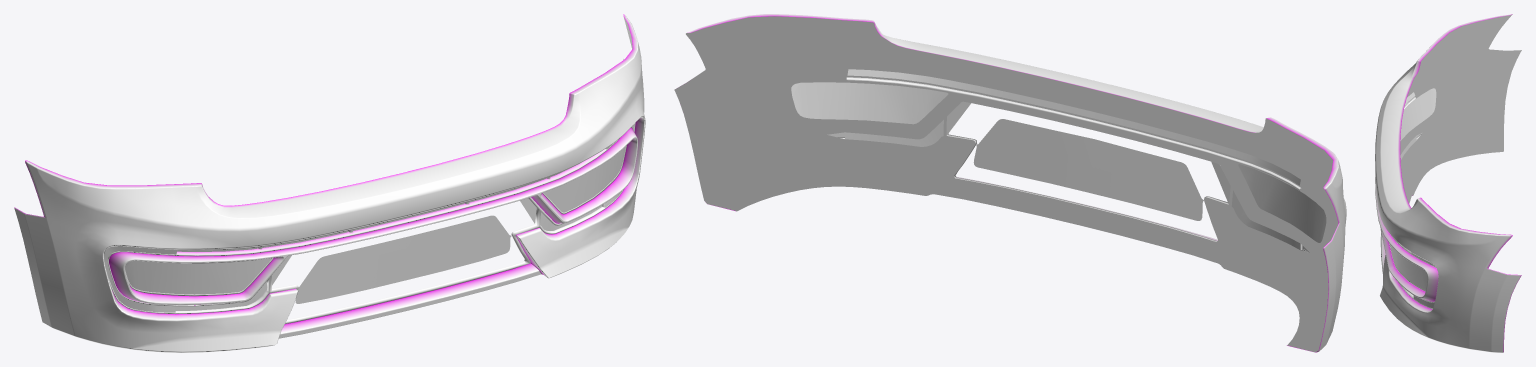
File: Car_Mini_CountrymanJCW_2017_BumperF_SetE.fbx
3 renders of one model, left to right at view 1: azimuth 30°, elevation 25°; view 2: azimuth 150°, elevation 25°; view 3: azimuth 270°, elevation 25°, orthographic. The views are drawn at different scales.
Visible parts, largest first — view 1: BumperF 6; view 2: BumperF 6; view 3: BumperF 6.
Boxes of the visible parts, x1,y1,x2,y2 form: BumperF 6: [14, 14, 645, 352]; BumperF 6: [674, 14, 1346, 352]; BumperF 6: [1375, 14, 1521, 352].
Bounding box in the file's own units: 1.77 × 0.4504 × 0.4877.
